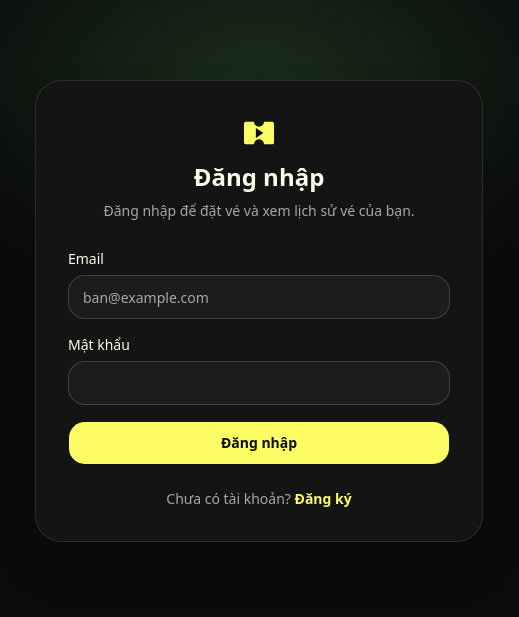
Test: Login form › no connection: an alert on the form, the visitor stays on the page
The width and height of the screenshot is (519, 617).
Type "an@example.com" into the field labelled "Email". click: (259, 297)
box: [68,275,450,319]
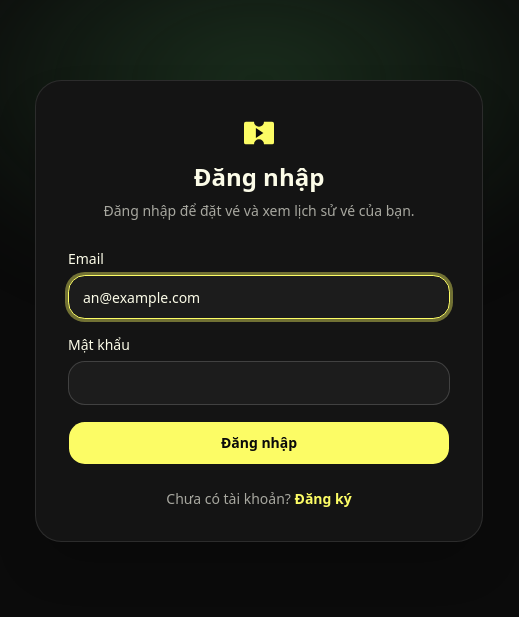
Type "mat-khau-dai" into the password field labelled "Mật khẩu". click: (259, 383)
box: [68,361,450,405]
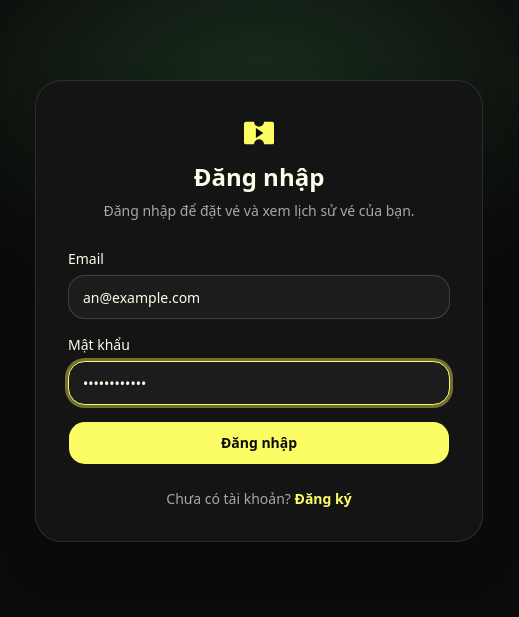
Click the button "Đăng nhập". click: (259, 443)
box: [68,421,450,465]
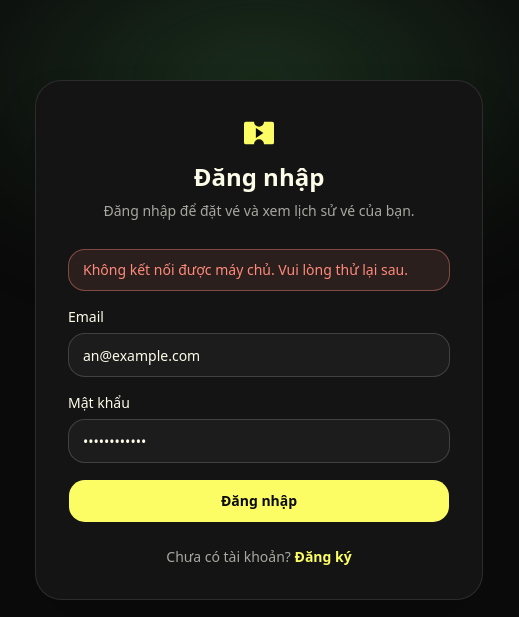
Expected: the message reads "Không kết nối được máy chủ. Vui lòng thử lại sau.", [83,260,408,279]
